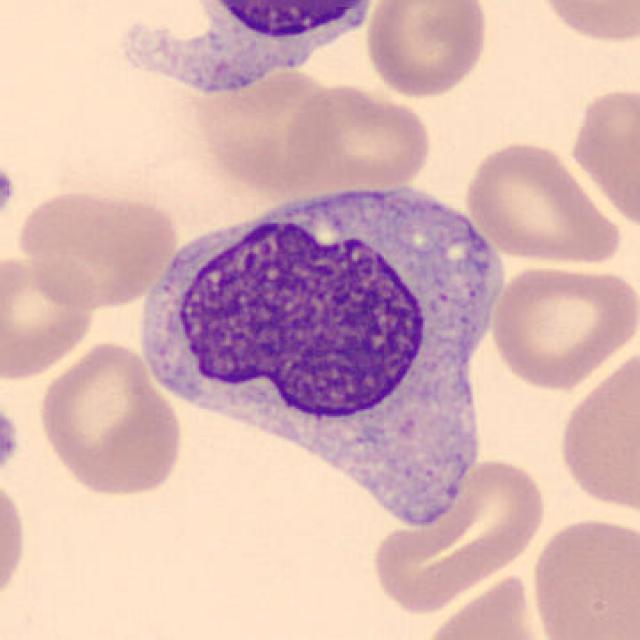monocyte: (147, 180, 499, 526)
rbc: (34, 347, 191, 505), (472, 144, 626, 292), (181, 56, 336, 191), (379, 455, 538, 585), (494, 257, 640, 396), (20, 186, 184, 306), (283, 87, 446, 204), (364, 0, 506, 109), (530, 519, 640, 640), (558, 74, 640, 231), (547, 366, 640, 500), (421, 569, 530, 640), (542, 0, 640, 55)
